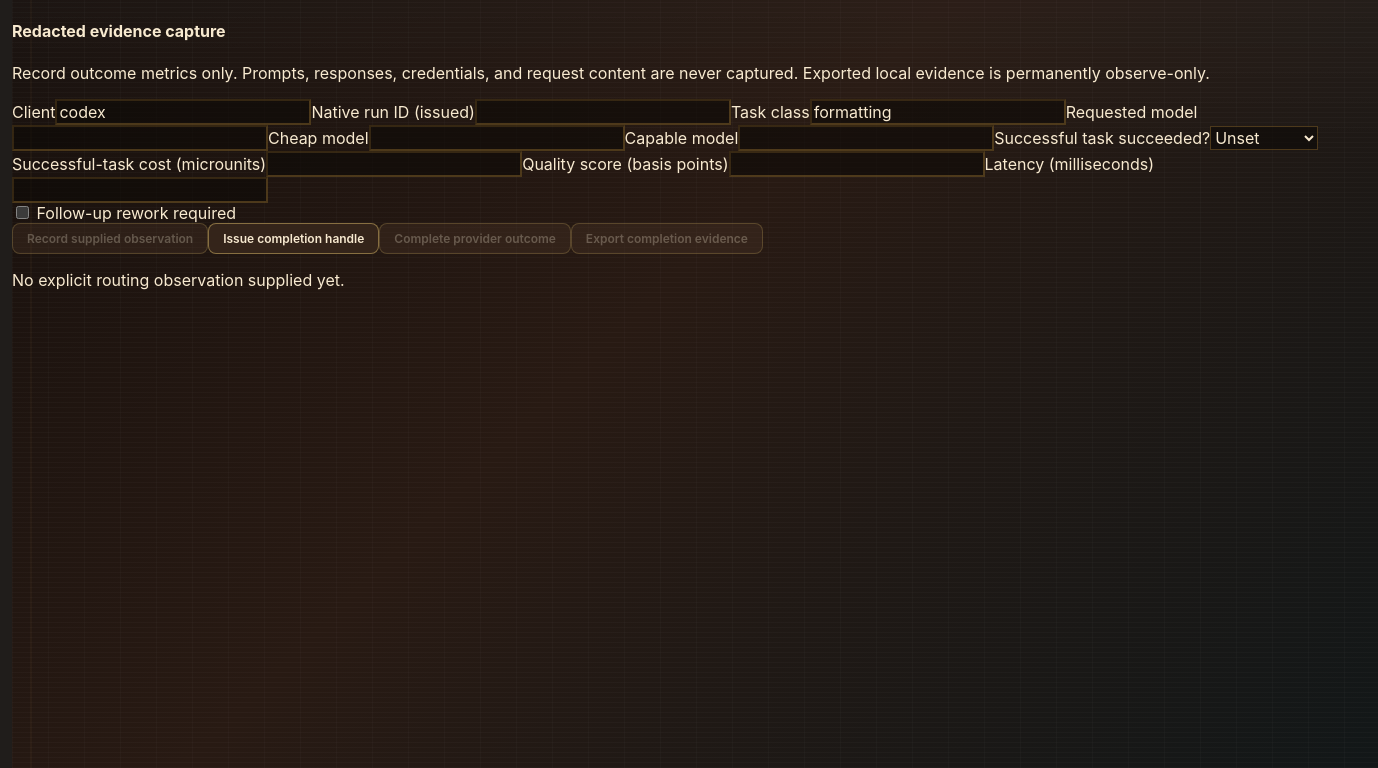
optimization supporting panels › surfaces completion-port failures without inventing fallback evidence
Click the button "Issue completion handle" at (294,238), box [208,222,379,254]
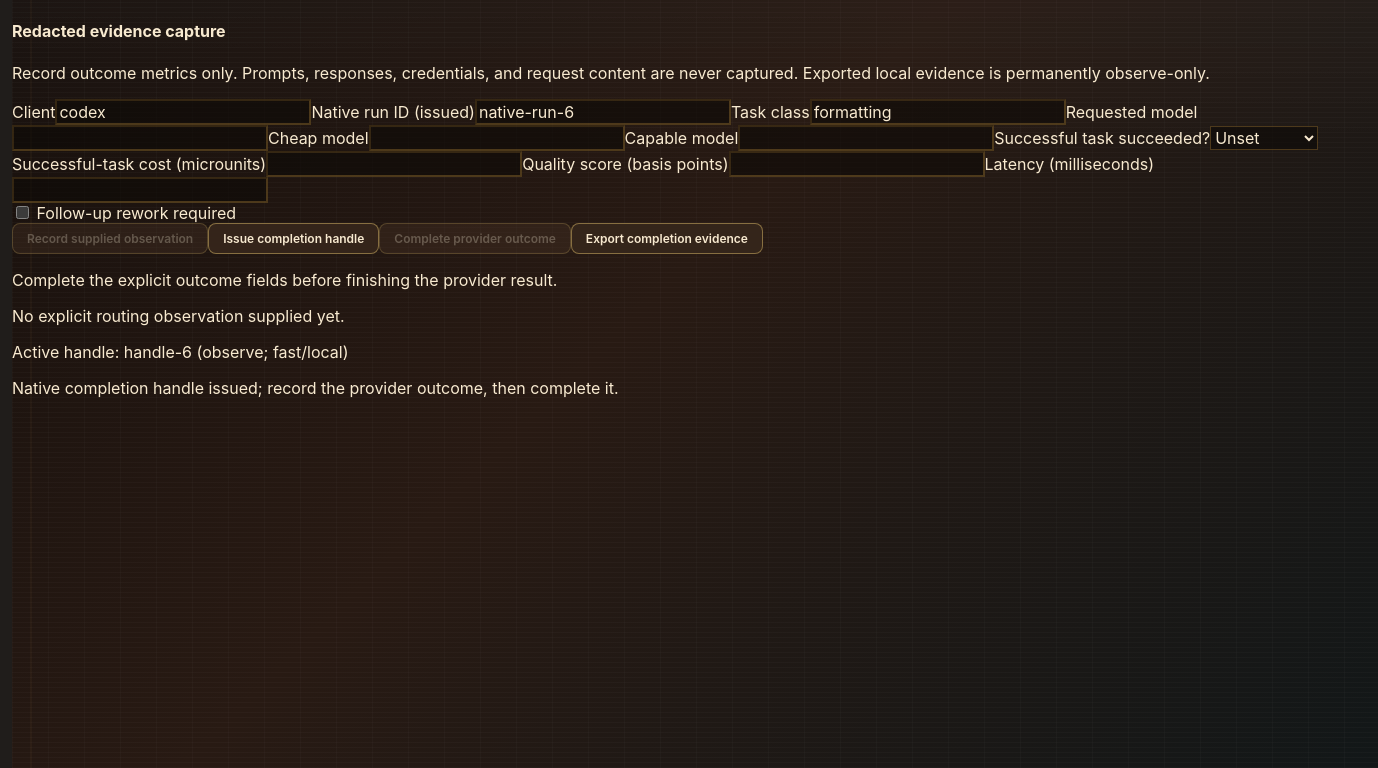
Select "Succeeded" in the dropdown named "Successful task outcome" at (1264,138), box [1210,126,1318,150]
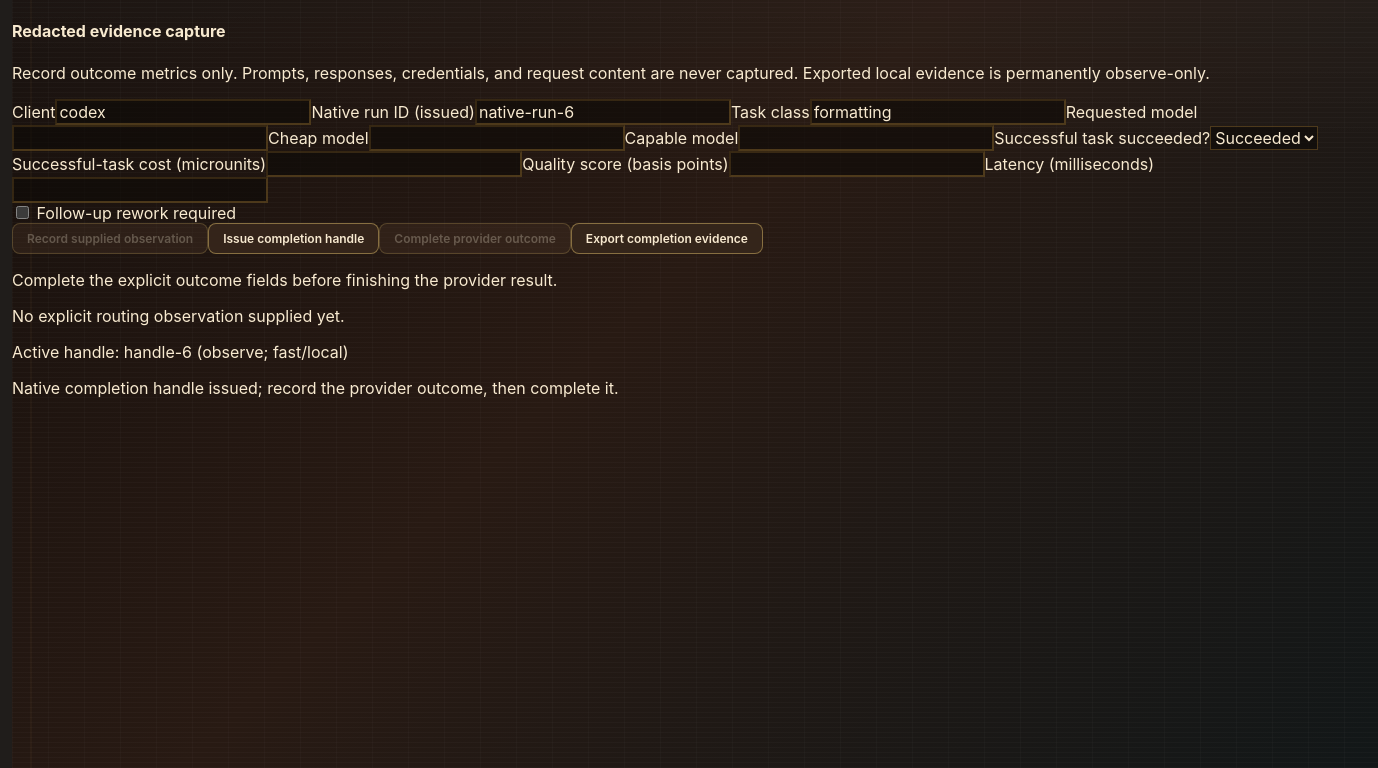
Type "9800" into the field labelled "Quality score" at (856,164), box [728,150,984,176]
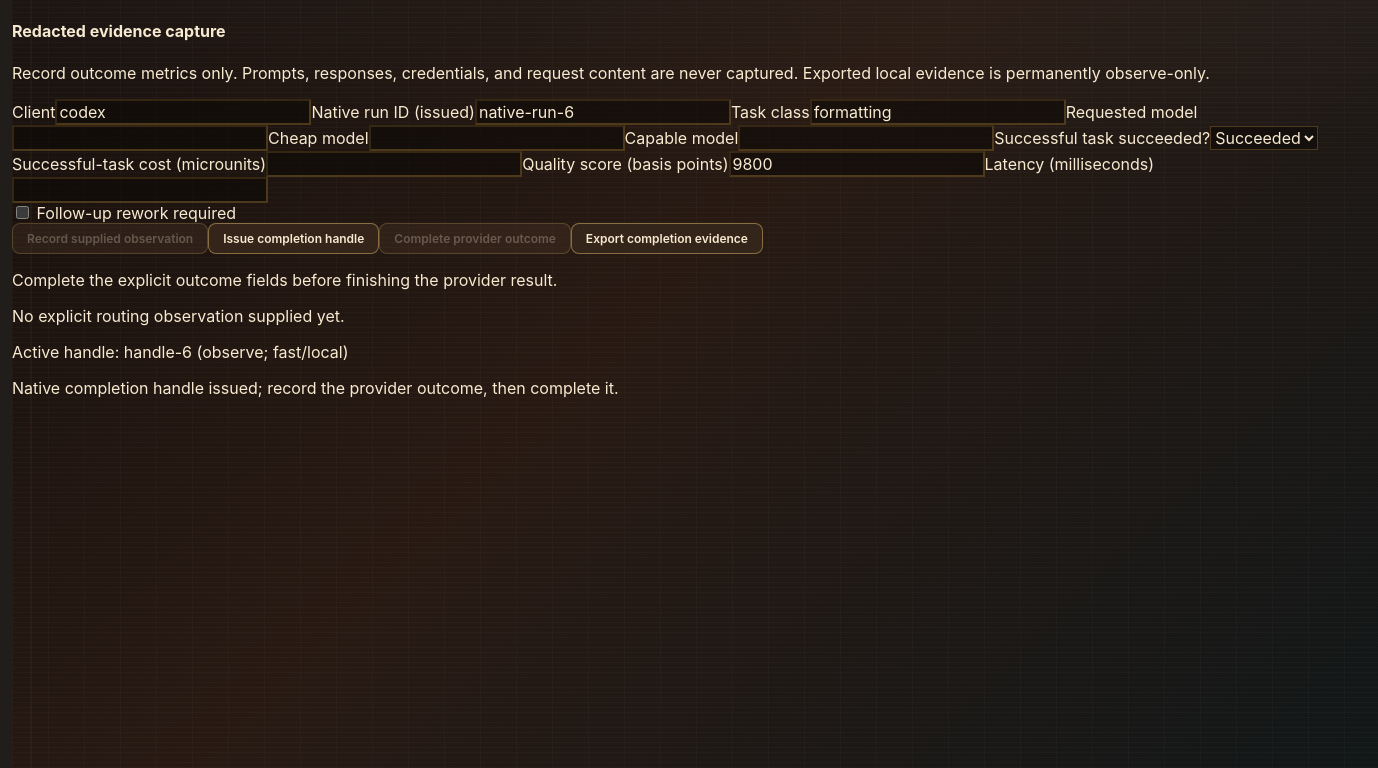
Type "700" into the field labelled "Latency" at (140,190), box [12,176,268,202]
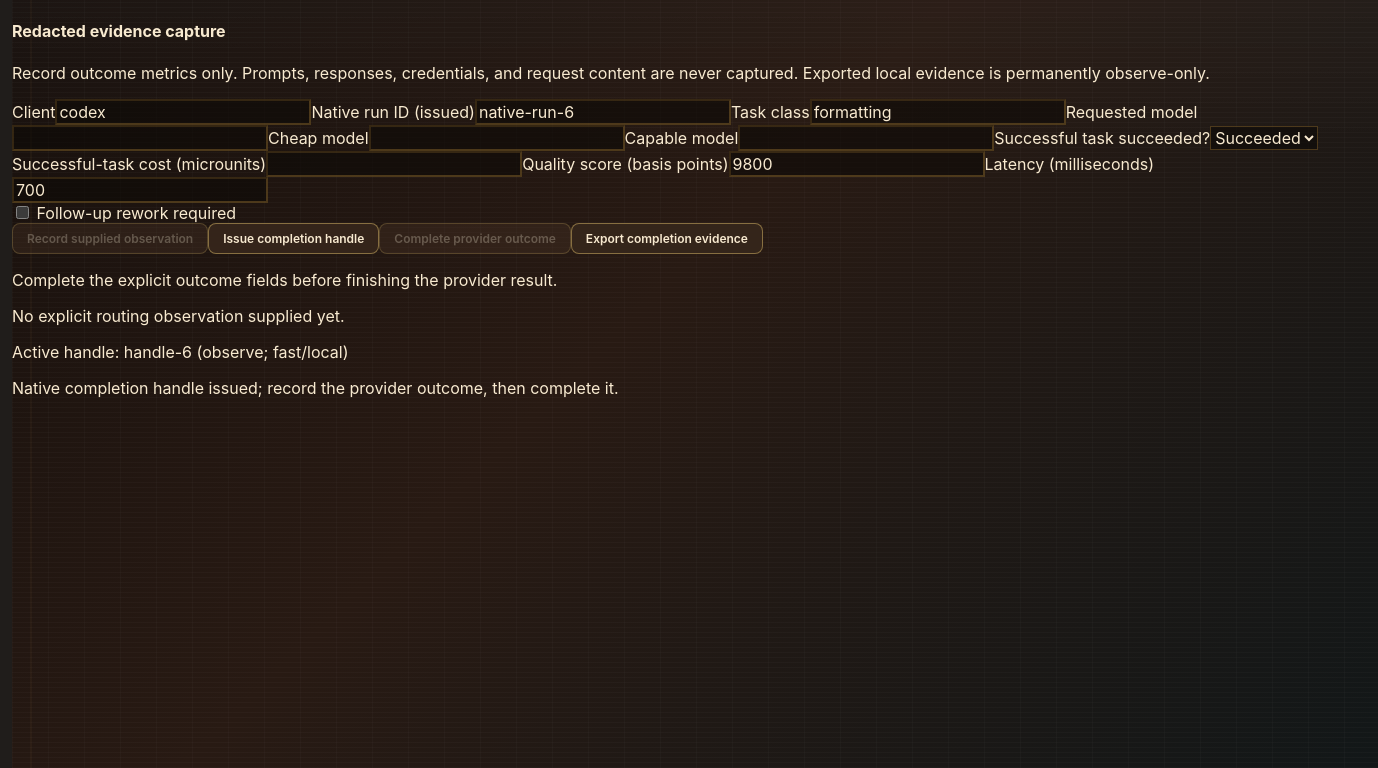
Type "900" into the field named "Successful task cost" at (394,164), box [266,150,522,176]
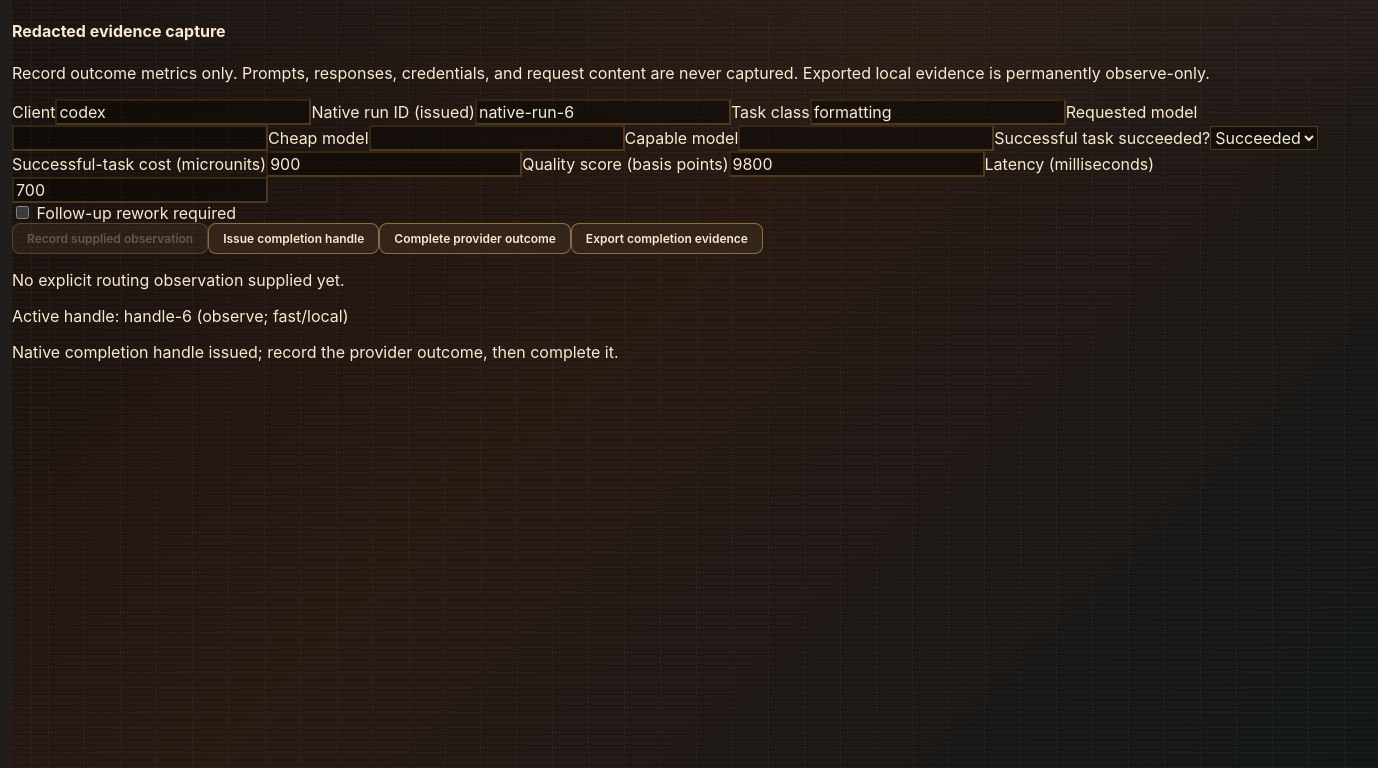
Result: the button "Complete provider outcome" is enabled
Click the button "Complete provider outcome" at (475,238), box [379,222,571,254]
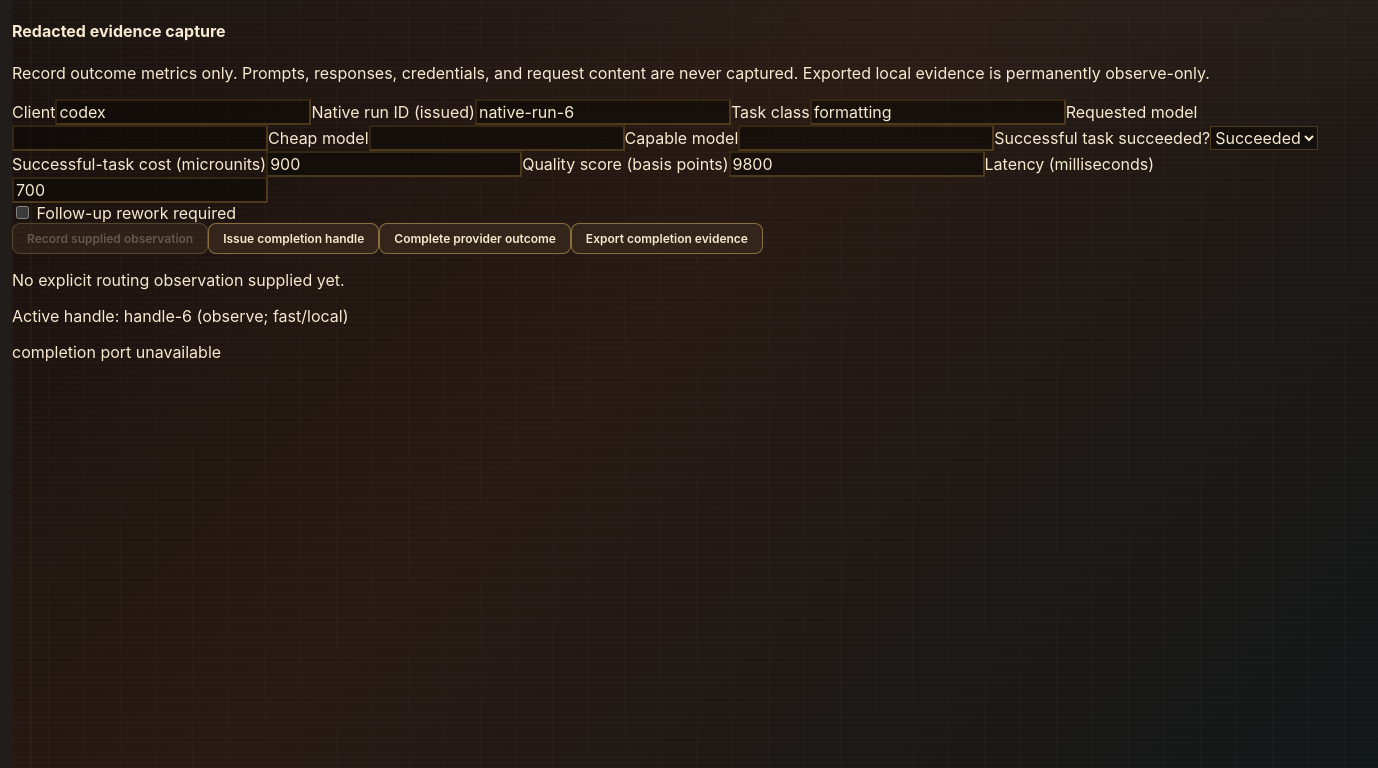
Result: the text "completion port unavailable" is shown at [12,342,221,362]
